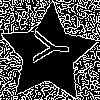Y: (23, 29, 70, 66)
